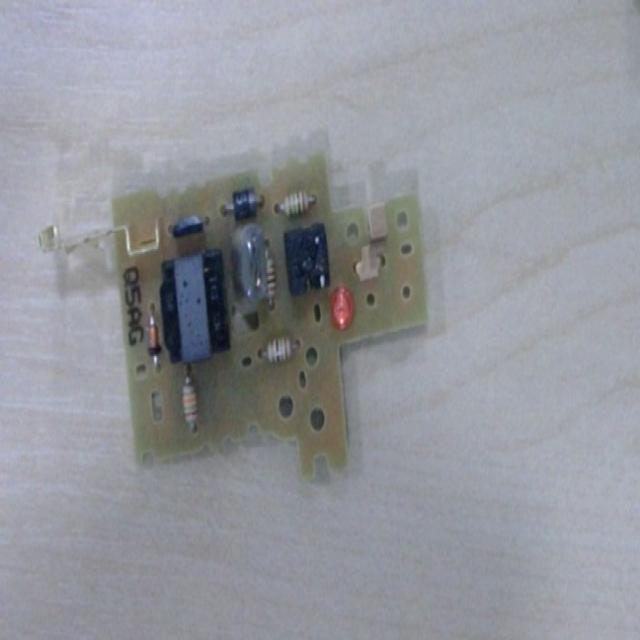019: (284, 225, 332, 296)
223: (231, 226, 268, 308)
DIODE: (220, 186, 266, 218)
LED: (329, 286, 356, 331)
R1: (259, 338, 301, 365)
R2: (266, 240, 277, 314)
R3: (272, 187, 318, 219)
R4: (181, 367, 200, 435)
TCE: (160, 248, 230, 362)
TRANSISTOR: (169, 211, 205, 240)
